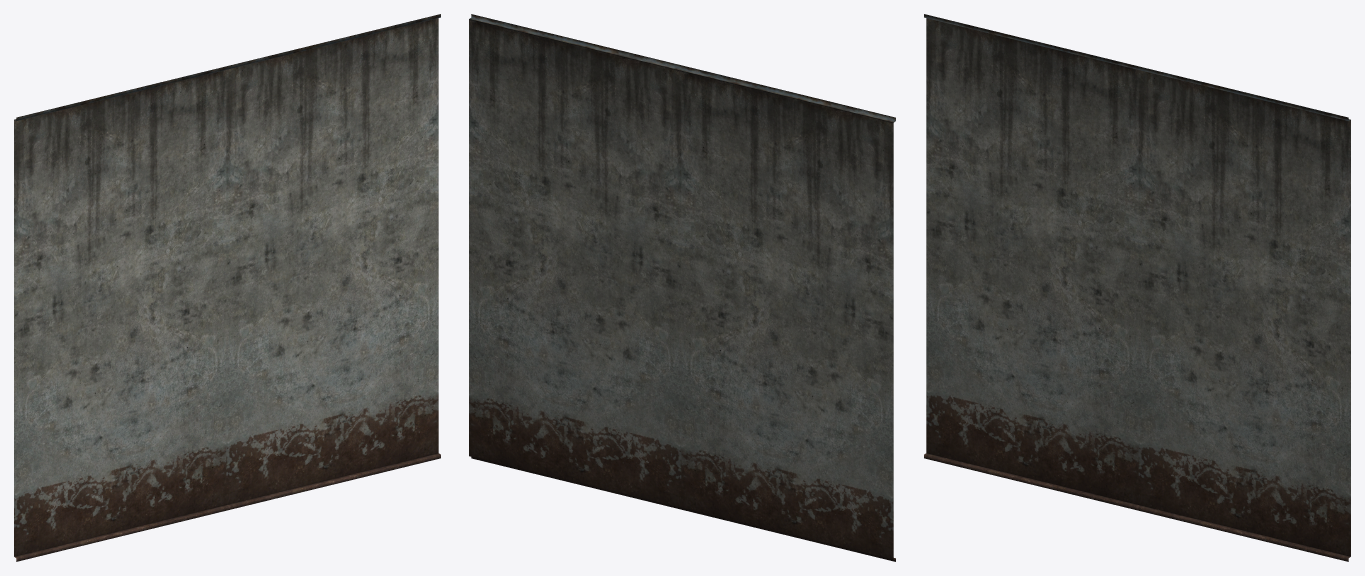
The model's file is scanningroom_damaged_flat.dae.
The picture shows the model from 3 angles, left to right: view 1: azimuth 30°, elevation 25°; view 2: azimuth 150°, elevation 25°; view 3: azimuth 330°, elevation 25°; orthographic projection.
Parts seen in each view (by area): view 1: polySurface7; view 2: polySurface7; view 3: polySurface7.
Part boxes in pixels (bbox=[...]): polySurface7: bbox=[14, 14, 440, 561]; polySurface7: bbox=[469, 14, 895, 561]; polySurface7: bbox=[924, 14, 1350, 561].
Size of the model in its own units: 4 by 4 by 0.0341.
